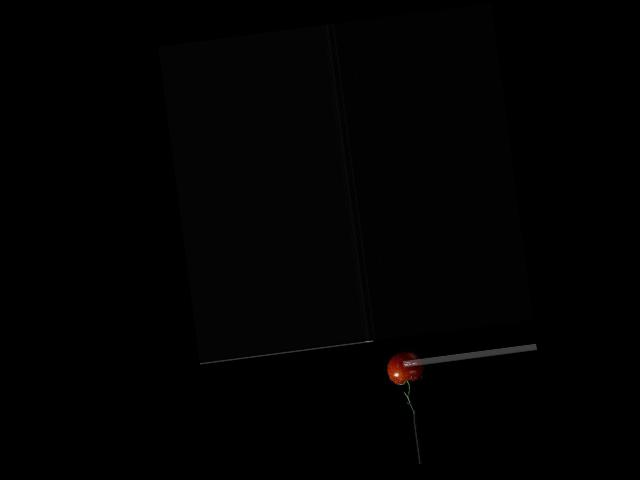tomato: (386, 351, 424, 385)
